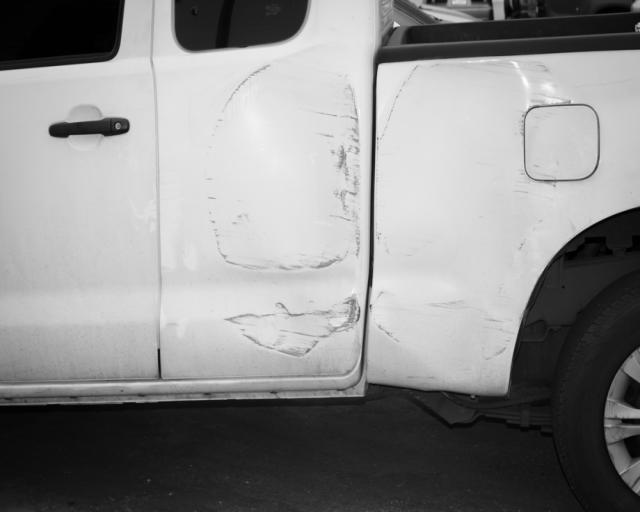scratch: (201, 51, 363, 276), (221, 291, 362, 359), (462, 58, 576, 133), (429, 296, 513, 363), (367, 288, 399, 343)
